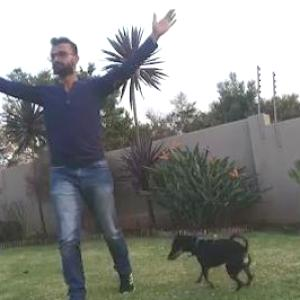takeoff: (1, 2, 167, 299)
